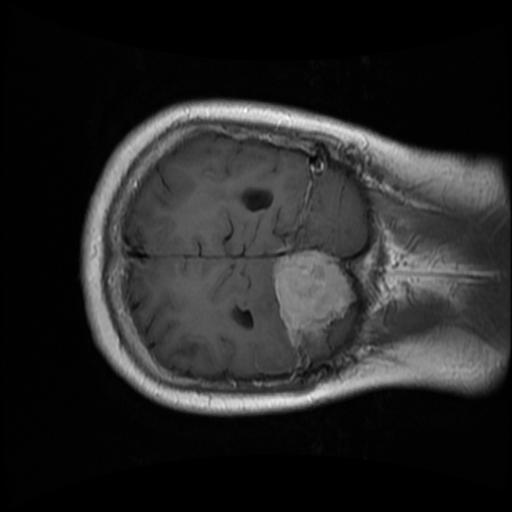meningioma: (272, 249, 355, 344)
